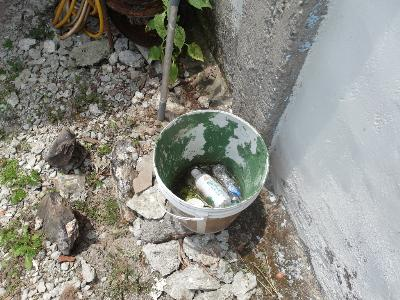bottle: (190, 167, 231, 208), (210, 163, 242, 205)
bucket: (150, 109, 269, 236)
